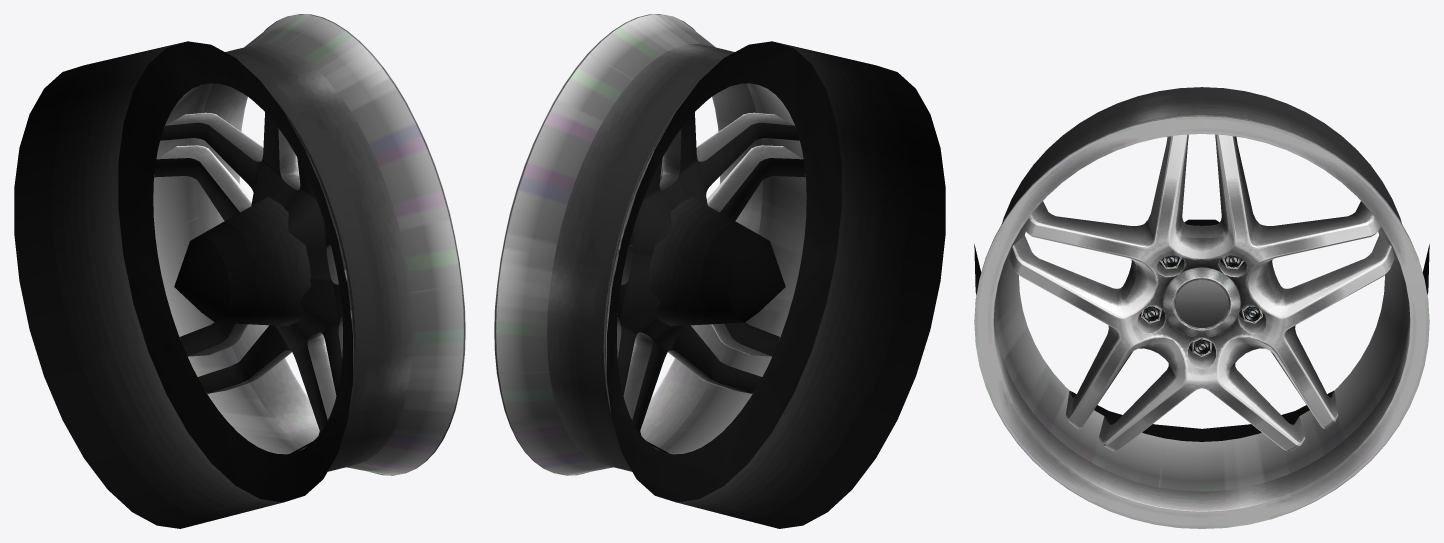
File: wheel26.fbx
The picture shows the model from 3 angles, left to right: view 1: azimuth 30°, elevation 25°; view 2: azimuth 150°, elevation 25°; view 3: azimuth 270°, elevation 25°; orthographic projection. The views are drawn at different scales.
Visible parts, largest first — view 1: bli_technospeed_type_03_wheel_wheel_inner_rim_, wheel_rim, bli_technospeed_type_03_wheel_wheel_rim_; view 2: bli_technospeed_type_03_wheel_wheel_inner_rim_, wheel_rim, bli_technospeed_type_03_wheel_wheel_rim_; view 3: wheel_rim, bli_technospeed_type_03_wheel_wheel_rim_, bli_technospeed_type_03_wheel_wheel_inner_rim_.
Boxes of the visible parts, <box> form: bli_technospeed_type_03_wheel_wheel_inner_rim_: <box>14,41,352,528</box>; wheel_rim: <box>153,14,463,474</box>; bli_technospeed_type_03_wheel_wheel_rim_: <box>157,14,465,475</box>; bli_technospeed_type_03_wheel_wheel_inner_rim_: <box>607,41,945,528</box>; wheel_rim: <box>496,14,806,474</box>; bli_technospeed_type_03_wheel_wheel_rim_: <box>494,14,802,475</box>; wheel_rim: <box>974,87,1429,528</box>; bli_technospeed_type_03_wheel_wheel_rim_: <box>974,87,1429,451</box>; bli_technospeed_type_03_wheel_wheel_inner_rim_: <box>974,219,1429,441</box>.
Size of the model in its own units: 0.2273 by 0.4336 by 0.4312.
Materials: 1 (1 with a texture image).
